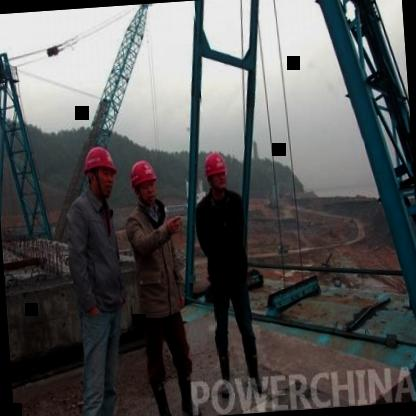helmet: (80, 142, 121, 204), (127, 158, 160, 208), (202, 154, 230, 201)
